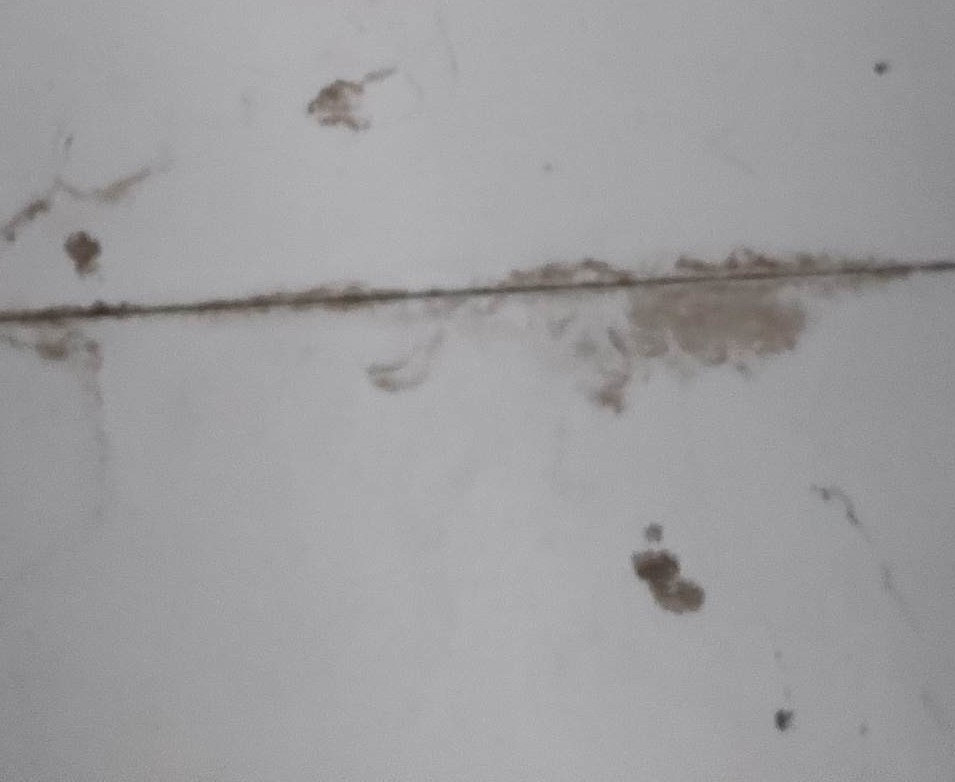grey spot: (502, 246, 911, 414), (303, 69, 393, 132), (630, 547, 705, 615), (1, 325, 103, 362), (60, 231, 103, 279), (645, 523, 663, 542), (776, 711, 792, 731), (872, 63, 888, 75)
